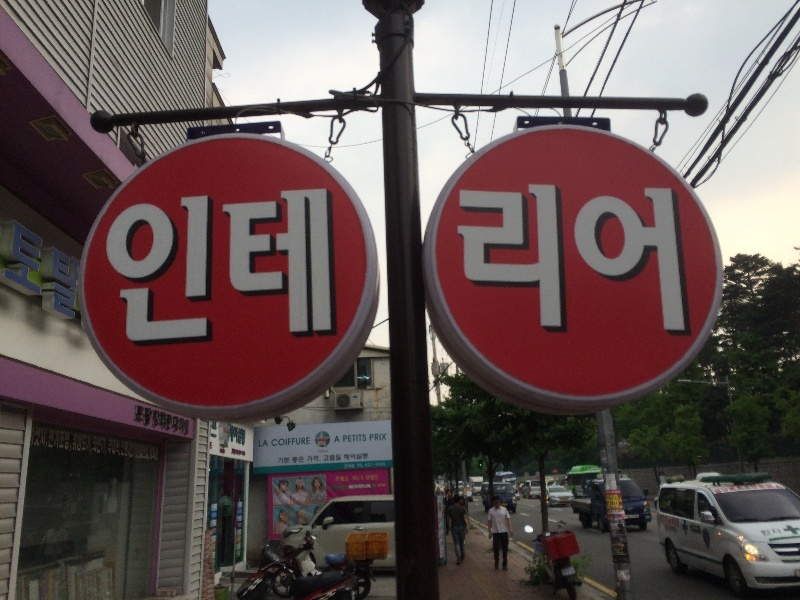text: (113, 183, 128, 353), (129, 183, 144, 353), (145, 183, 160, 353), (161, 183, 176, 353), (177, 183, 192, 353), (193, 183, 208, 353), (209, 183, 224, 353), (225, 183, 240, 353), (241, 183, 256, 353), (257, 183, 272, 353), (273, 183, 288, 353), (289, 183, 304, 353), (305, 183, 320, 353), (321, 183, 335, 353), (449, 182, 464, 337), (465, 182, 480, 337), (481, 182, 496, 337), (497, 182, 512, 337), (513, 182, 528, 337), (529, 182, 544, 337), (545, 182, 560, 337), (561, 182, 576, 337), (577, 182, 592, 337), (593, 182, 608, 337), (609, 182, 624, 337), (625, 182, 640, 337), (641, 182, 656, 337), (657, 182, 672, 337), (673, 182, 688, 337), (100, 183, 112, 353), (65, 214, 81, 322), (17, 214, 32, 322), (33, 214, 48, 322), (49, 214, 64, 322), (10, 214, 16, 322), (145, 405, 160, 435), (161, 405, 176, 435), (177, 405, 189, 435), (49, 429, 64, 453), (226, 423, 240, 447), (129, 441, 144, 461), (35, 426, 48, 449), (145, 441, 159, 461), (81, 432, 93, 454), (97, 435, 109, 456), (136, 405, 144, 435), (610, 494, 624, 510), (65, 429, 73, 453), (113, 438, 121, 458), (689, 182, 690, 337), (73, 432, 80, 454), (273, 437, 288, 447), (289, 437, 304, 447), (241, 423, 247, 447), (121, 441, 128, 461), (369, 433, 384, 442), (353, 434, 367, 443), (259, 439, 272, 448), (337, 475, 352, 482), (353, 475, 368, 482), (292, 456, 304, 464), (323, 455, 336, 462), (92, 435, 96, 456), (770, 529, 784, 535), (343, 434, 352, 443), (108, 438, 112, 458), (307, 456, 320, 462), (357, 453, 368, 460), (369, 475, 379, 482), (278, 458, 288, 464), (305, 437, 311, 447), (232, 449, 240, 456), (344, 454, 352, 461), (761, 530, 768, 537), (330, 454, 336, 462), (605, 495, 608, 511), (609, 495, 612, 511), (30, 426, 32, 446), (33, 426, 35, 446), (241, 449, 246, 456), (337, 454, 341, 462), (769, 530, 773, 537), (49, 426, 50, 449), (337, 436, 340, 443), (353, 454, 356, 460), (385, 433, 387, 442), (271, 437, 272, 447), (335, 475, 336, 482), (351, 454, 352, 460)
